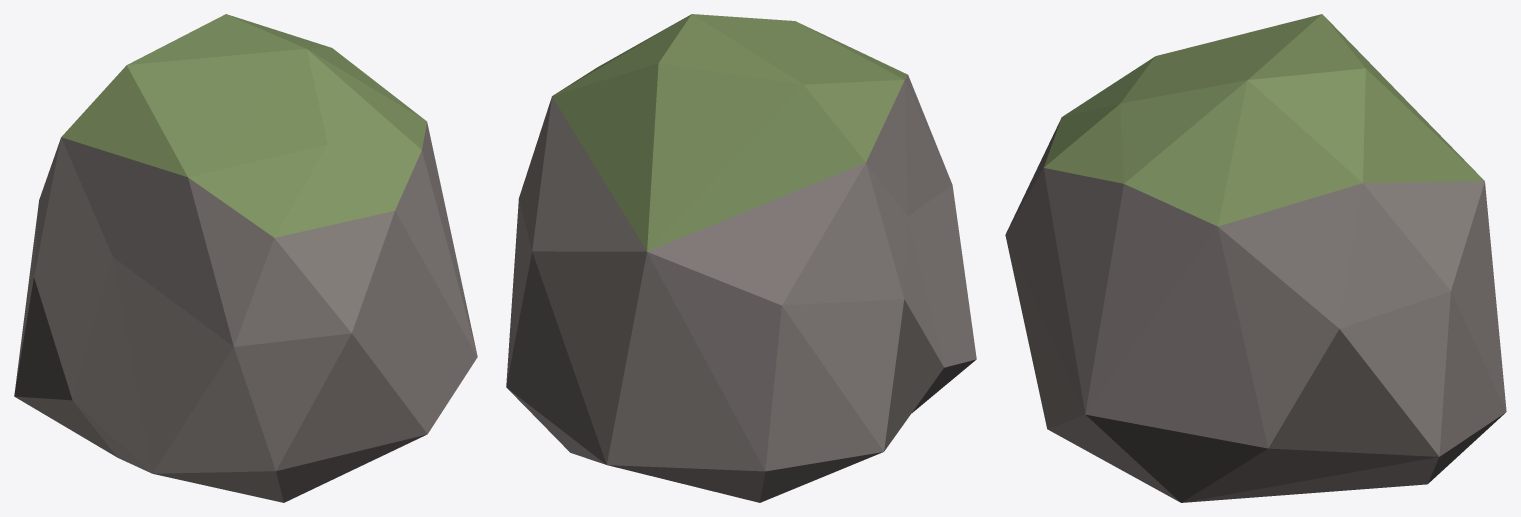
File: Kaya001.fbx
The picture shows the model from 3 angles, left to right: view 1: azimuth 30°, elevation 25°; view 2: azimuth 150°, elevation 25°; view 3: azimuth 270°, elevation 25°; orthographic projection. The views are drawn at different scales.
Parts seen in each view (by area): view 1: Icosphere.006; view 2: Icosphere.006; view 3: Icosphere.006.
Part boxes in pixels (box(x1,y1,x2,y2)): Icosphere.006: box(14, 14, 477, 502); Icosphere.006: box(506, 14, 976, 502); Icosphere.006: box(1005, 14, 1506, 502).
Size of the model in its own units: 0.6012 by 0.677 by 0.6049.
